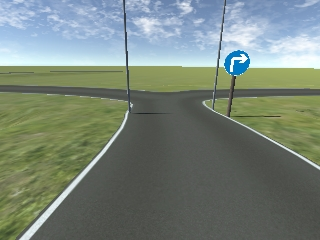right: (223, 51, 250, 76)
